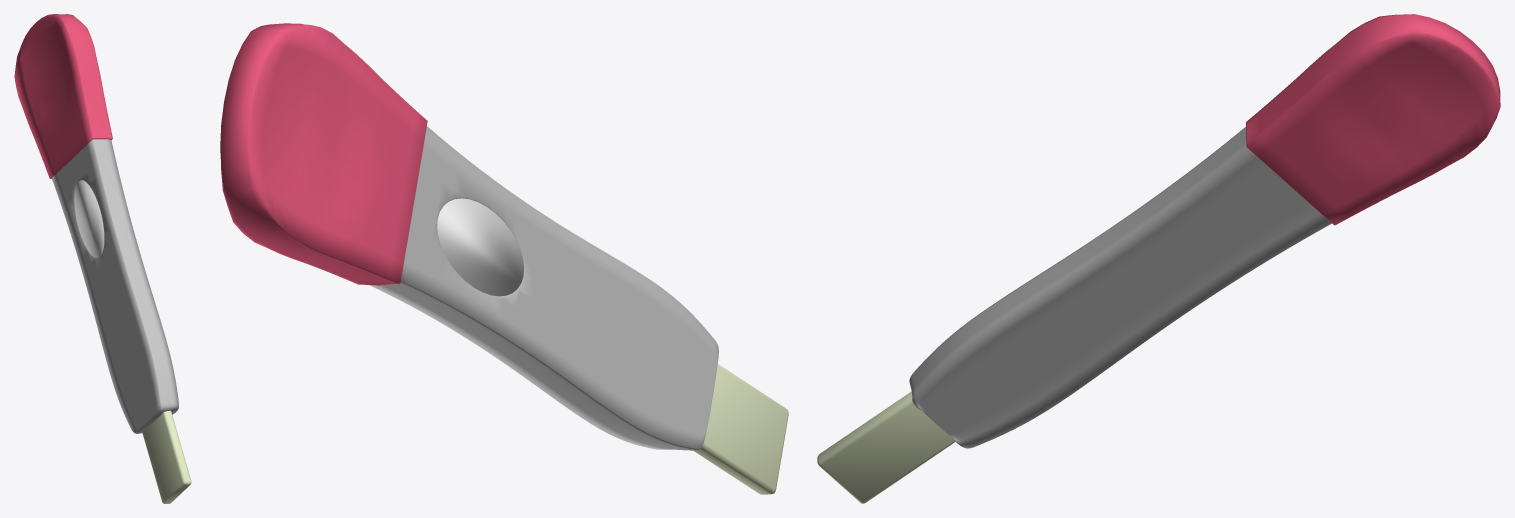
File: pregnancy test 1.fbx
3 views of the same model, side by side, from view 1: azimuth 30°, elevation 25°; view 2: azimuth 150°, elevation 25°; view 3: azimuth 270°, elevation 25° (orthographic). The views are drawn at different scales.
Parts seen in each view (by area): view 1: pregnancy test 1; view 2: pregnancy test 1; view 3: pregnancy test 1.
Part boxes in pixels (left/top/right/bottom): pregnancy test 1: left=14, top=14, right=191, bottom=503; pregnancy test 1: left=220, top=23, right=788, bottom=494; pregnancy test 1: left=817, top=14, right=1500, bottom=503.
Bounding box in the file's own units: 16.67 × 61.09 × 70.02.
